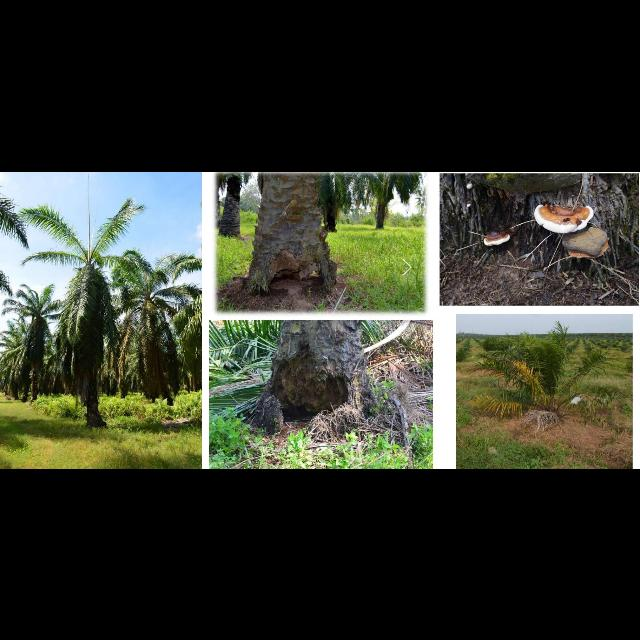ganoderma: (535, 193, 594, 234), (561, 227, 612, 259), (483, 228, 511, 246)
